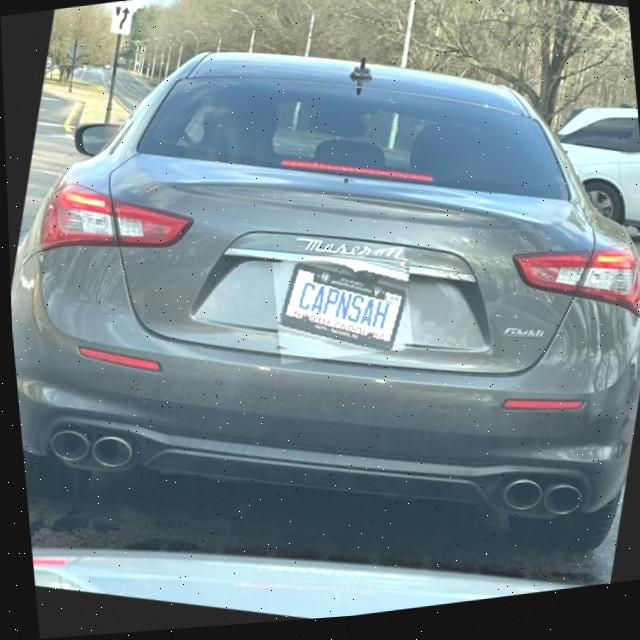LicensePlate: (275, 264, 405, 356)
